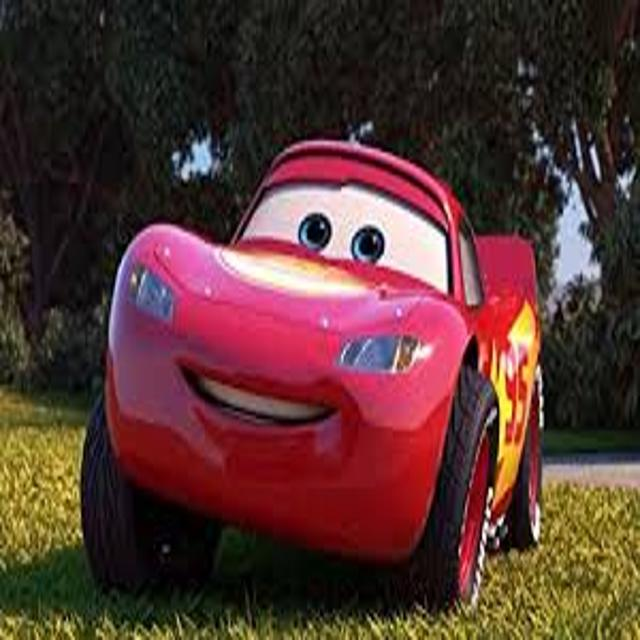car: (82, 139, 545, 605)
